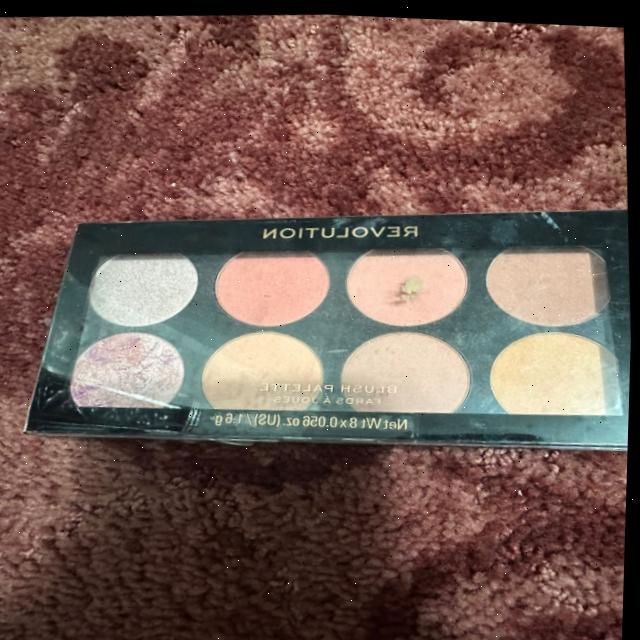highlighter: (53, 215, 621, 452)
